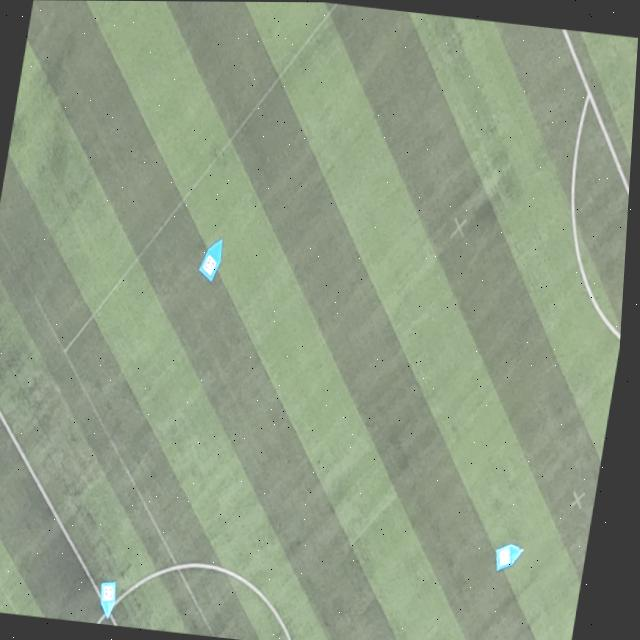board: (200, 236, 224, 281), (501, 542, 530, 569), (107, 580, 122, 620)
